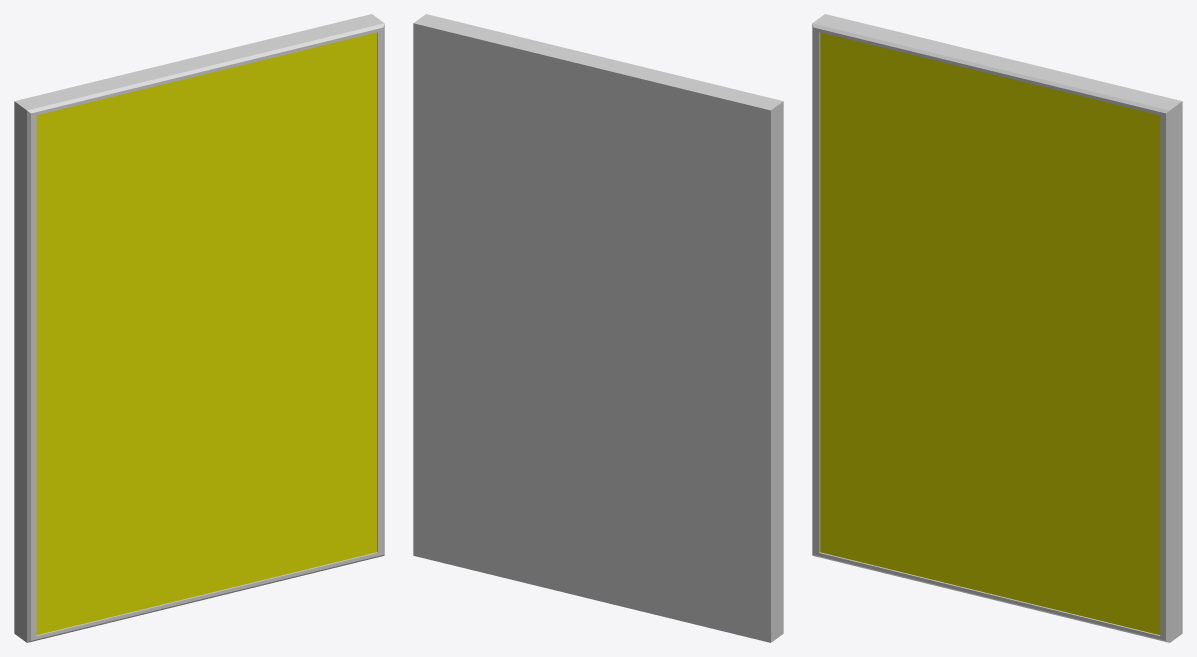
The model's file is frame.fbx.
3 renders of one model, left to right at view 1: azimuth 30°, elevation 25°; view 2: azimuth 150°, elevation 25°; view 3: azimuth 330°, elevation 25°, orthographic.
Visible parts, largest first — view 1: polySurface129, polySurface128; view 2: polySurface128; view 3: polySurface129, polySurface128.
Part boxes in pixels (left/top/right/bottom): polySurface129: left=36, top=32, right=376, bottom=634; polySurface128: left=14, top=14, right=384, bottom=642; polySurface128: left=413, top=14, right=783, bottom=642; polySurface129: left=820, top=32, right=1160, bottom=634; polySurface128: left=812, top=14, right=1182, bottom=642.
Bounding box in the file's own units: 75.54 × 108 × 5.16.
